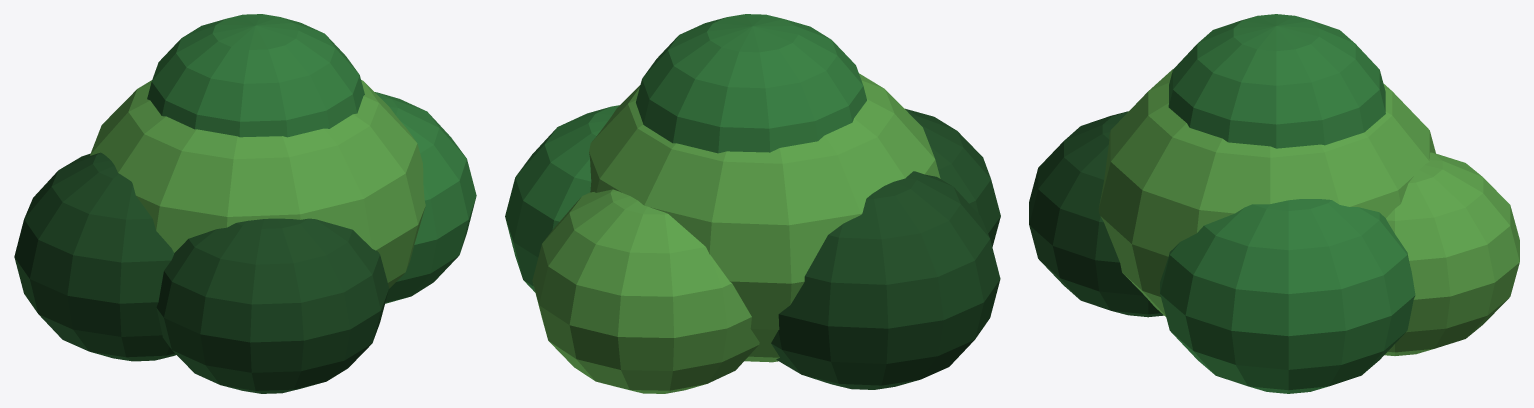
The model's file is MagicForestCrown.obj.
The picture shows the model from 3 angles, left to right: view 1: azimuth 30°, elevation 25°; view 2: azimuth 150°, elevation 25°; view 3: azimuth 270°, elevation 25°; orthographic projection. The views are drawn at different scales.
Parts seen in each view (by area): view 1: LeafLobe0, LeafLobe4, LeafLobe2, LeafLobe5, LeafLobe1; view 2: LeafLobe0, LeafLobe2, LeafLobe3, LeafLobe5, LeafLobe1, LeafLobe4; view 3: LeafLobe1, LeafLobe0, LeafLobe5, LeafLobe3, LeafLobe4.
Boxes of the visible parts, x1,y1,x2,y2 form: LeafLobe0: (90,80,425,288); LeafLobe4: (156,218,389,393); LeafLobe2: (14,152,176,361); LeafLobe5: (147,14,364,137); LeafLobe1: (375,92,476,303); LeafLobe0: (589,73,940,362); LeafLobe2: (771,171,1000,389); LeafLobe3: (532,189,759,393); LeafLobe5: (636,14,866,153); LeafLobe1: (505,105,619,292); LeafLobe4: (905,108,1000,246); LeafLobe1: (1160,199,1415,393); LeafLobe0: (1098,69,1435,316); LeafLobe5: (1168,14,1385,148); LeafLobe3: (1384,152,1519,355); LeafLobe4: (1029,111,1163,317).
Size of the model in its own units: 4.28 by 2.84 by 4.14.
